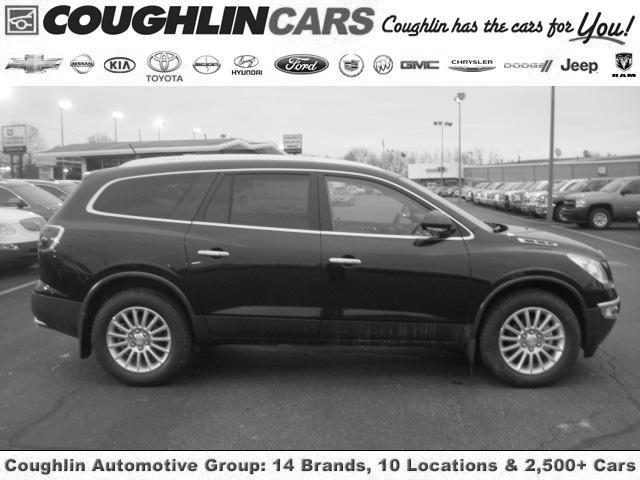car: (27, 151, 623, 391)
